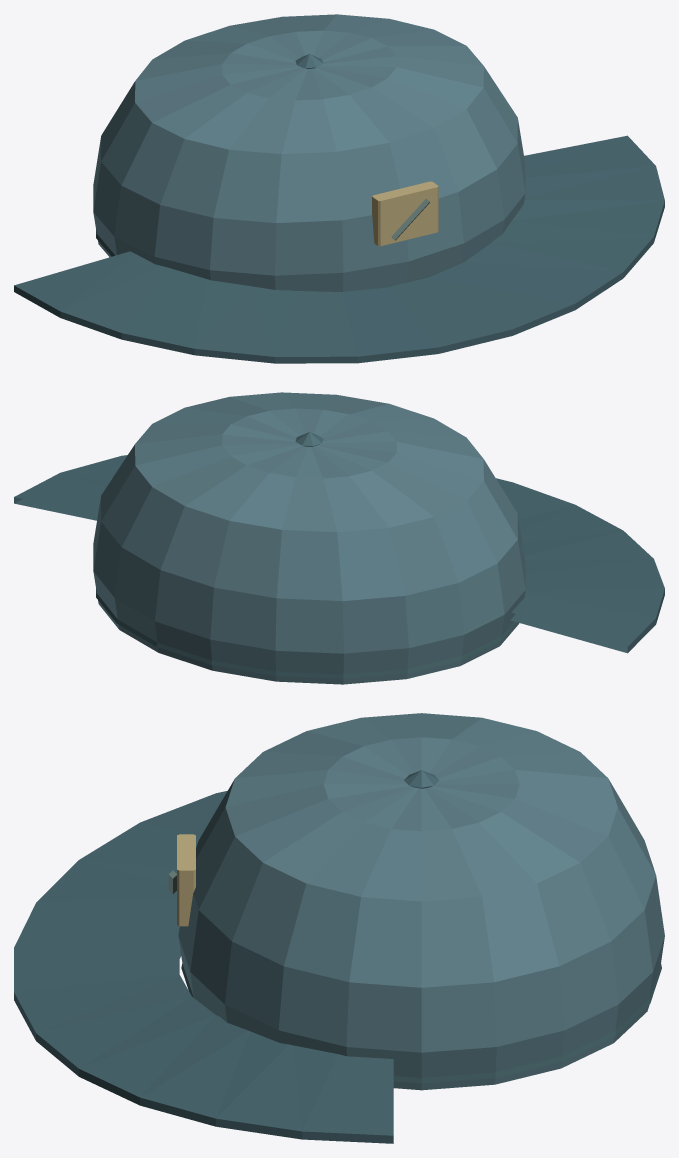
Rendered from hat_cap.glb.
The picture shows the model from 3 angles, top to bottom: view 1: azimuth 30°, elevation 25°; view 2: azimuth 150°, elevation 25°; view 3: azimuth 270°, elevation 25°; orthographic projection. The views are drawn at different scales.
Visible parts, largest first — view 1: hat_cap; view 2: hat_cap; view 3: hat_cap.
Boxes of the visible parts, <box> form: hat_cap: <box>14,14,664,363</box>; hat_cap: <box>14,392,664,684</box>; hat_cap: <box>14,713,664,1143</box>.
Size of the model in its own units: 0.78 by 0.2057 by 0.5839.
